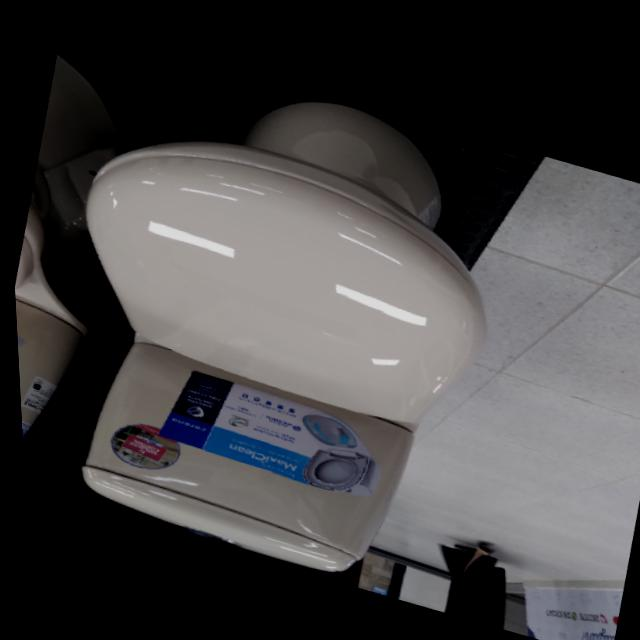toilet: (8, 33, 538, 606)
